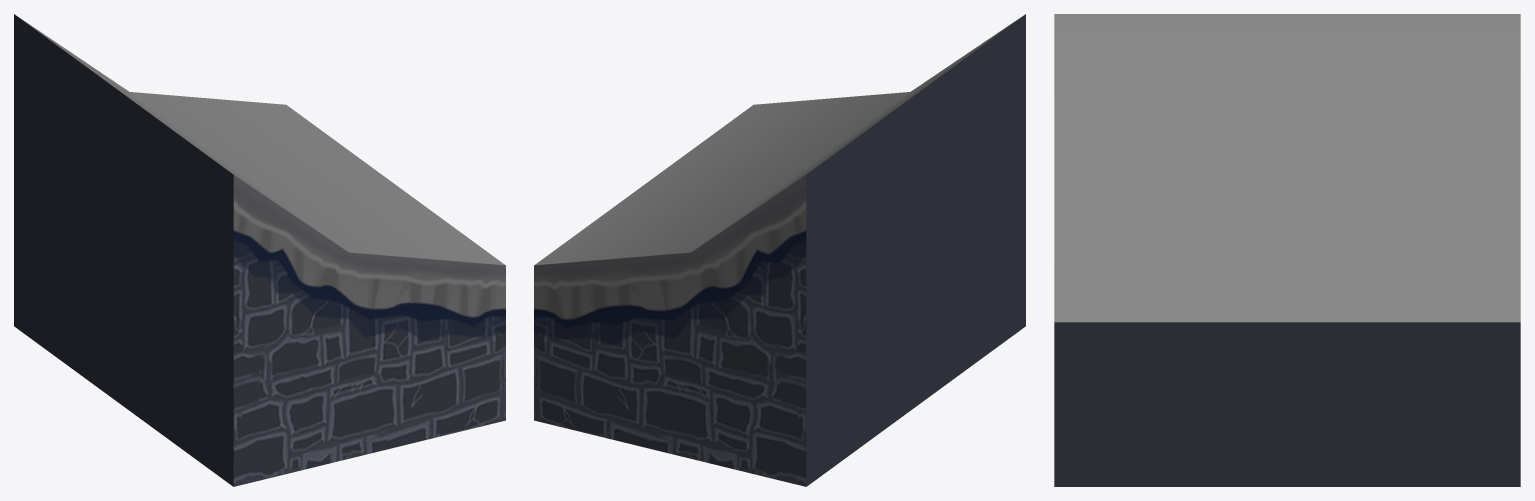
File: Crypt_R_5.fbx
The picture shows the model from 3 angles, left to right: view 1: azimuth 30°, elevation 25°; view 2: azimuth 150°, elevation 25°; view 3: azimuth 270°, elevation 25°; orthographic projection. The views are drawn at different scales.
Parts seen in each view (by area): view 1: Crypt_R_5; view 2: Crypt_R_5; view 3: Crypt_R_5.
Boxes of the visible parts, x1,y1,x2,y2 form: Crypt_R_5: (14,14,505,486); Crypt_R_5: (534,14,1025,486); Crypt_R_5: (1054,14,1520,486).
Size of the model in its own units: 3.05 by 3.34 by 4.26.
Materials: 1 (1 with a texture image).
